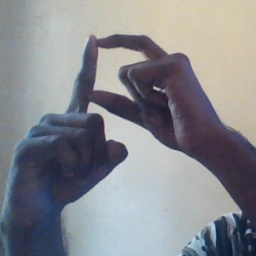D: (55, 27, 186, 141)
